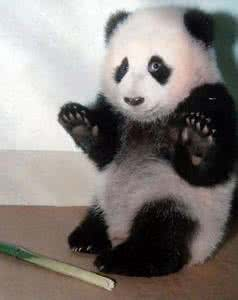panda: (53, 3, 238, 277)
